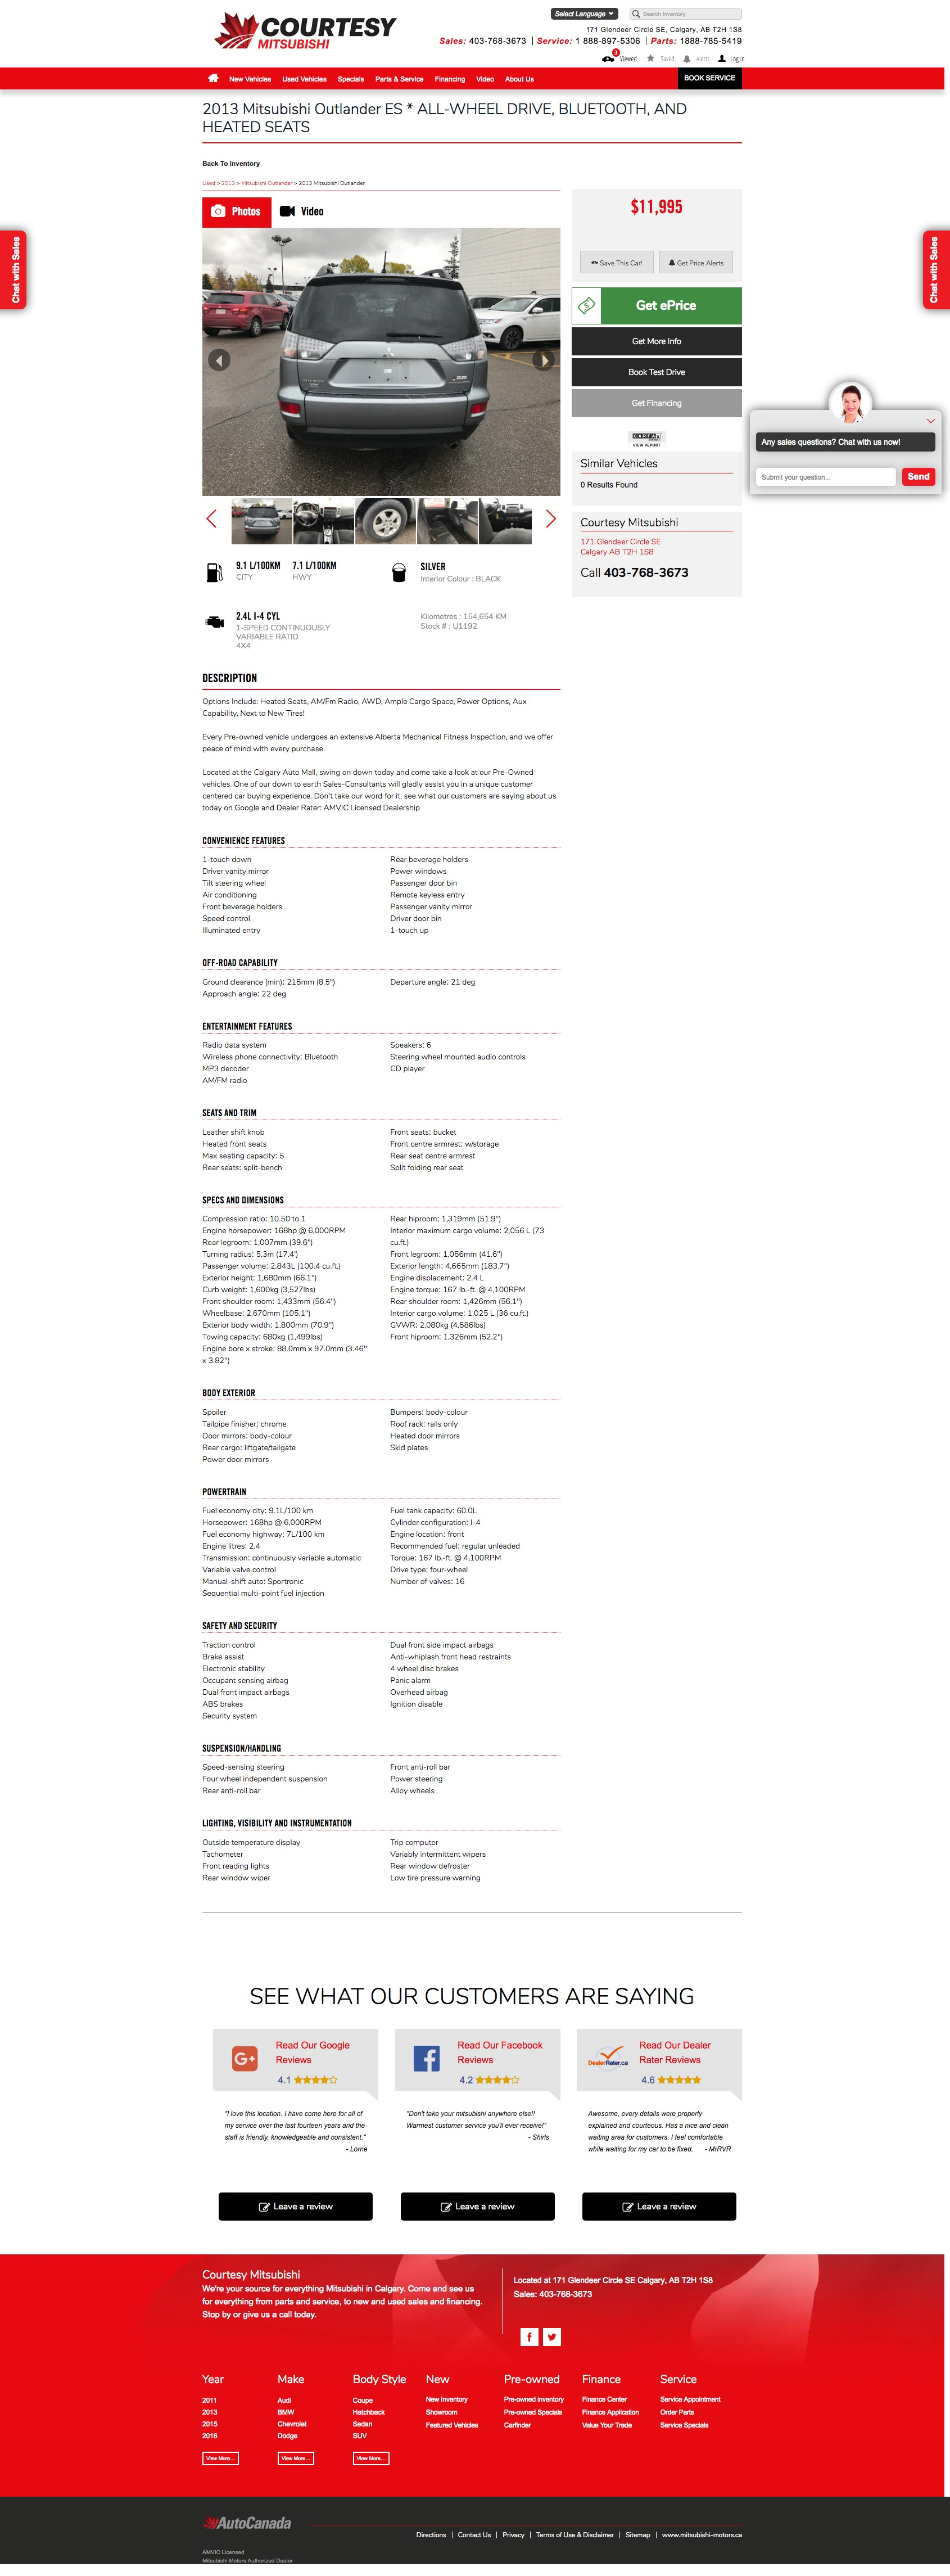car: (546, 509, 557, 529)
